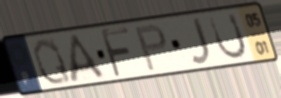A: (69, 31, 111, 86)
F: (98, 26, 134, 80)
J: (188, 15, 213, 67)
P: (133, 22, 169, 74)
Q: (30, 36, 74, 87)
U: (206, 10, 249, 62)
